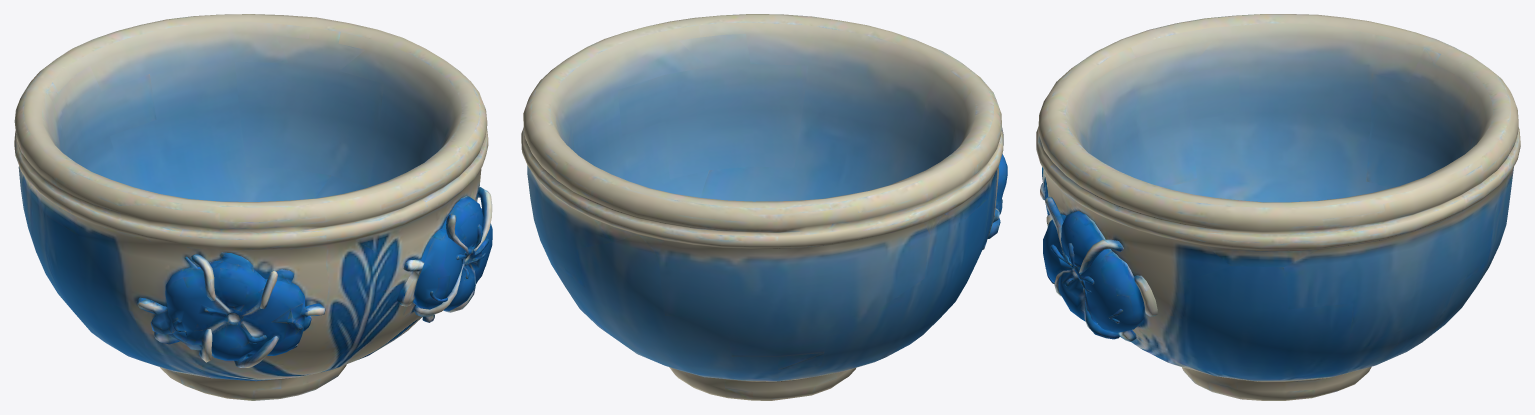
File: piyola.ab92cb89.glb
3 views of the same model, side by side, from view 1: azimuth 30°, elevation 25°; view 2: azimuth 150°, elevation 25°; view 3: azimuth 270°, elevation 25° (orthographic).
Visible parts, largest first — view 1: tripo_node_abd06f76-a9b3-413a-81d0-75ffb29fd462; view 2: tripo_node_abd06f76-a9b3-413a-81d0-75ffb29fd462; view 3: tripo_node_abd06f76-a9b3-413a-81d0-75ffb29fd462.
Boxes of the visible parts, x1,y1,x2,y2 form: tripo_node_abd06f76-a9b3-413a-81d0-75ffb29fd462: [14, 14, 492, 400]; tripo_node_abd06f76-a9b3-413a-81d0-75ffb29fd462: [521, 14, 1007, 400]; tripo_node_abd06f76-a9b3-413a-81d0-75ffb29fd462: [1036, 14, 1520, 400].
Size of the model in its own units: 0.9941 by 0.5879 by 0.998.
1 material, 1 textured.
